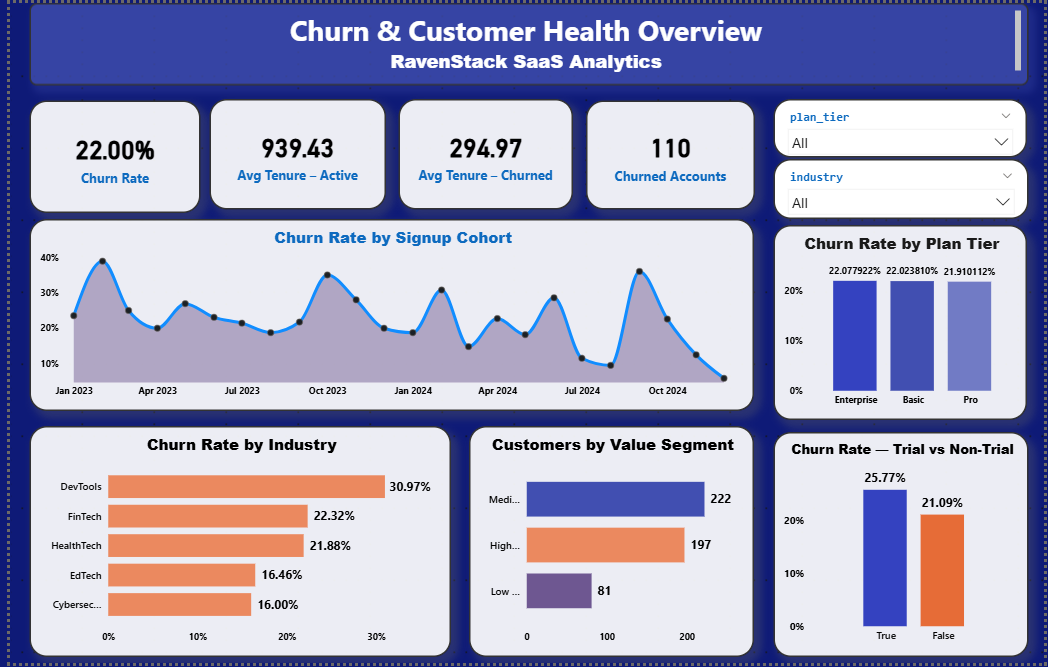

Layout of this report page (visuals, bound fields, positions):
{"tool":"powerbi","page":{"name":"Churn and Customer Health Overview","canvas":[1380,880],"ordinal":1},"visuals":[{"type":"textbox","box":[26,0,1332,110],"z":0},{"type":"card","fields":{"Values":["accounts.Churn Rate %"]},"box":[26,130,228,150],"z":1000},{"type":"card","fields":{"Values":["accounts.Avg Tenure Active"]},"box":[265,127.5,235,147.5],"z":2000},{"type":"card","fields":{"Values":["accounts.Churned Accounts"]},"box":[767.5,130,225,145],"z":3000},{"type":"card","fields":{"Values":["accounts.Avg Tenure Churned"]},"box":[517.5,127.5,232.5,147.5],"z":4000},{"type":"slicer","fields":{"Values":["accounts.plan_tier"]},"box":[1018,128,338,78],"z":5000},{"type":"slicer","fields":{"Values":["accounts.industry"]},"box":[1018,208,340,80],"z":6000},{"type":"lineChart","title":"Churn Rate by Signup Cohort","fields":{"Y":["accounts.Churn Rate %"],"Category":["accounts.signup_date.Variation.Date Hierarchy.Year","accounts.signup_date.Variation.Date Hierarchy.Month"]},"box":[26,288,966,256],"z":7000},{"type":"columnChart","title":"Churn Rate by Plan Tier","fields":{"Y":["accounts.Churn Rate %"],"Category":["accounts.plan_tier"]},"box":[1018,296,338,260],"z":8000},{"type":"barChart","title":"Churn Rate by Industry","fields":{"Category":["accounts.industry"],"Y":["accounts.Churn Rate %"]},"box":[26,564,562,308],"z":9000},{"type":"clusteredBarChart","title":"Customers by Value Segment","fields":{"Y":["CountNonNull(accounts.account_id)"],"Category":["accounts.Customer Value Segment"]},"box":[612,564,380,308],"z":10000},{"type":"columnChart","title":"Churn Rate — Trial vs Non-Trial","fields":{"Category":["accounts.is_trial"],"Y":["accounts.Churn Rate %"]},"box":[1018,572,340,300],"z":11000}]}

Visuals, with their boxes in screenshot pixels (x1, y1, x2, y2), scaled from the page's 1380x880 canvas onto the 1048x667 screenshot:
textbox: x1=20, y1=0, x2=1031, y2=83
card - accounts.Churn Rate %: x1=20, y1=99, x2=193, y2=212
card - accounts.Avg Tenure Active: x1=201, y1=97, x2=380, y2=208
card - accounts.Churned Accounts: x1=583, y1=99, x2=754, y2=208
card - accounts.Avg Tenure Churned: x1=393, y1=97, x2=570, y2=208
slicer - accounts.plan_tier: x1=773, y1=97, x2=1030, y2=156
slicer - accounts.industry: x1=773, y1=158, x2=1031, y2=218
"Churn Rate by Signup Cohort" lineChart: x1=20, y1=218, x2=753, y2=412
"Churn Rate by Plan Tier" columnChart: x1=773, y1=224, x2=1030, y2=421
"Churn Rate by Industry" barChart: x1=20, y1=427, x2=447, y2=661
"Customers by Value Segment" clusteredBarChart: x1=465, y1=427, x2=753, y2=661
"Churn Rate — Trial vs Non-Trial" columnChart: x1=773, y1=434, x2=1031, y2=661
